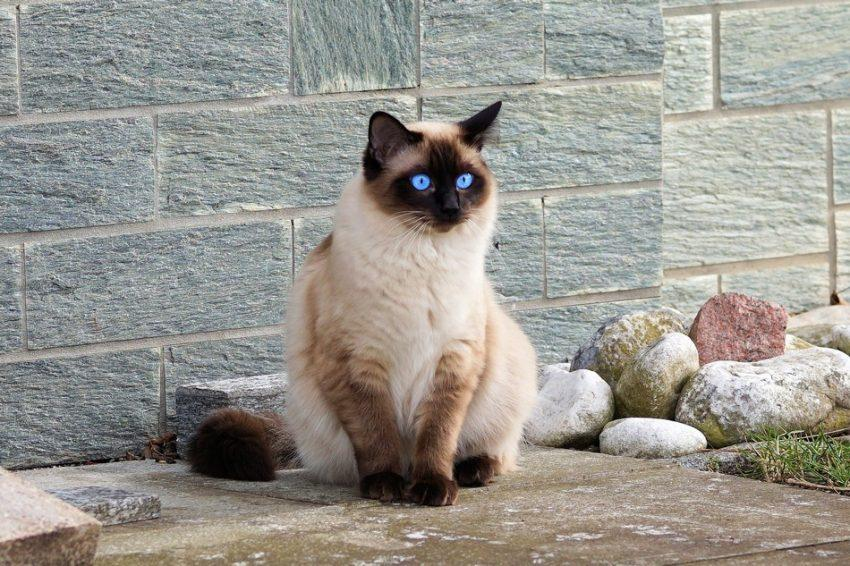siamese: (353, 94, 509, 242)
